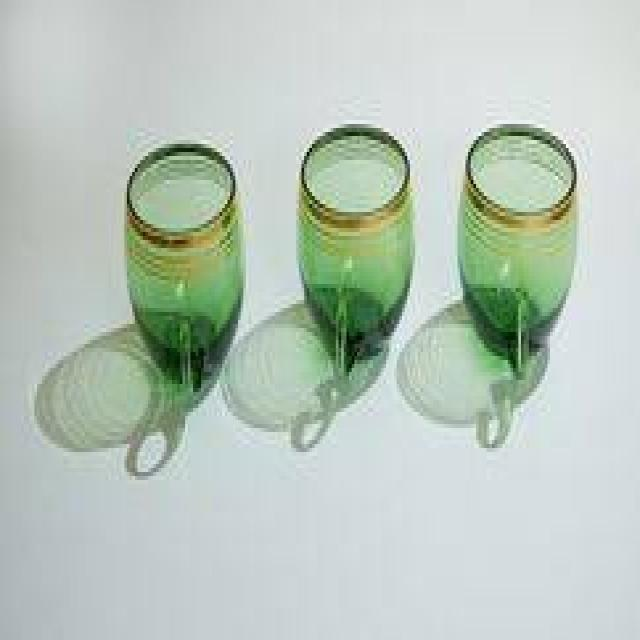glass: (299, 120, 415, 380), (457, 120, 574, 376), (125, 140, 244, 388)
